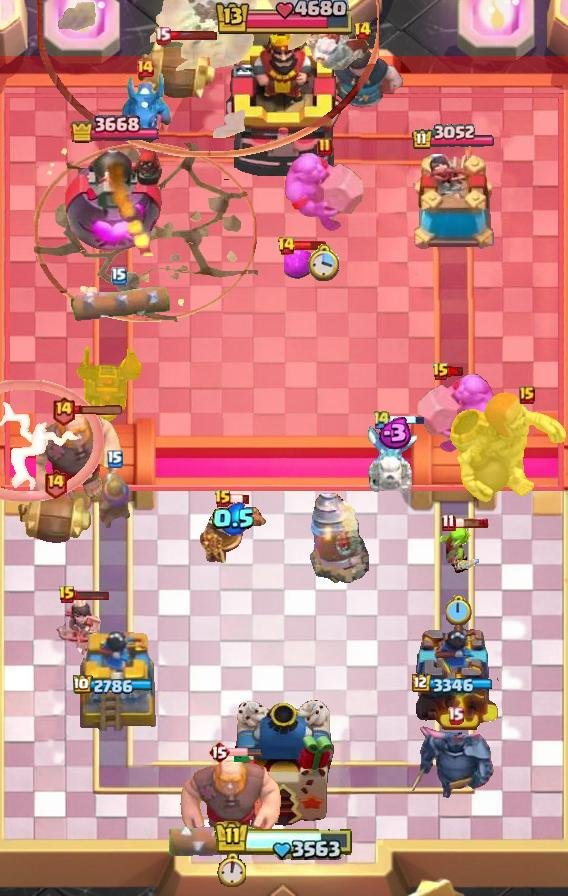archer-evolution: (74, 342, 148, 424)
archer-queen: (282, 150, 368, 234), (413, 371, 499, 455)
balloon: (177, 757, 285, 849), (36, 408, 124, 506)
barbarian-evolution: (0, 380, 104, 502)
bomb-tower: (98, 468, 132, 528)
clock: (214, 821, 354, 862), (213, 0, 355, 38)
electro-giant: (446, 392, 568, 504)
electro-spirit: (212, 502, 256, 536), (375, 417, 414, 449)
elixir: (308, 243, 342, 282), (216, 853, 246, 887), (446, 595, 472, 625)
elixir-collector: (199, 496, 269, 570)
emote: (73, 404, 125, 415), (168, 31, 218, 42), (390, 414, 426, 426), (453, 517, 489, 529), (74, 589, 110, 601), (293, 241, 327, 252), (227, 747, 263, 757), (230, 493, 250, 505), (447, 367, 465, 378)
golemite: (412, 723, 498, 799)
graveyard: (117, 71, 173, 145)
guard: (34, 143, 258, 322)
king-tower: (224, 29, 344, 181), (234, 700, 334, 826)
magic-archer: (309, 492, 369, 584)
miner: (284, 249, 316, 279)
mini-pekka: (297, 20, 371, 74), (366, 424, 420, 496)
minion: (66, 285, 172, 323), (166, 826, 268, 862)
queen-tower: (64, 621, 164, 731), (405, 617, 501, 731), (405, 154, 501, 256)
royal-ghost: (37, 0, 379, 156)
royal-hog: (319, 46, 405, 124)
selected: (69, 112, 158, 147), (412, 125, 497, 152), (413, 673, 496, 695), (73, 675, 155, 697)
skeleton-dragon: (53, 597, 103, 655)
text: (51, 394, 76, 425), (44, 469, 69, 500), (208, 740, 230, 764), (372, 409, 392, 431), (352, 21, 372, 41), (135, 58, 155, 78), (276, 236, 296, 256), (432, 362, 450, 382), (214, 489, 232, 509), (58, 585, 76, 605), (447, 707, 465, 725), (153, 27, 170, 46), (317, 137, 333, 157), (111, 267, 127, 285), (519, 386, 535, 404), (107, 450, 123, 468), (440, 512, 455, 531)
the-log: (135, 39, 219, 101), (15, 491, 95, 545)
tower-bar: (63, 138, 164, 256)
zap: (437, 520, 481, 575)
